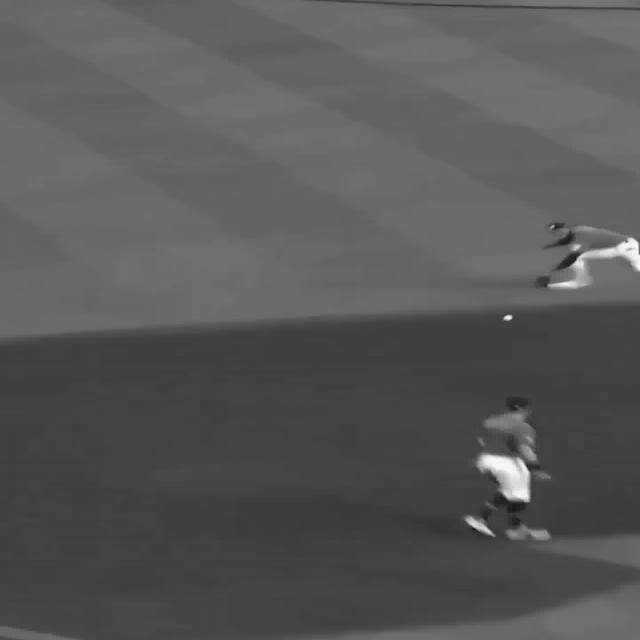baseball: (501, 314, 513, 322)
baseball_glove: (533, 274, 551, 288)
shoe: (504, 522, 551, 540), (462, 514, 496, 537)
